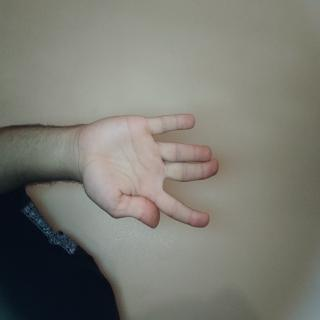SHEEN: (79, 126, 174, 320)
